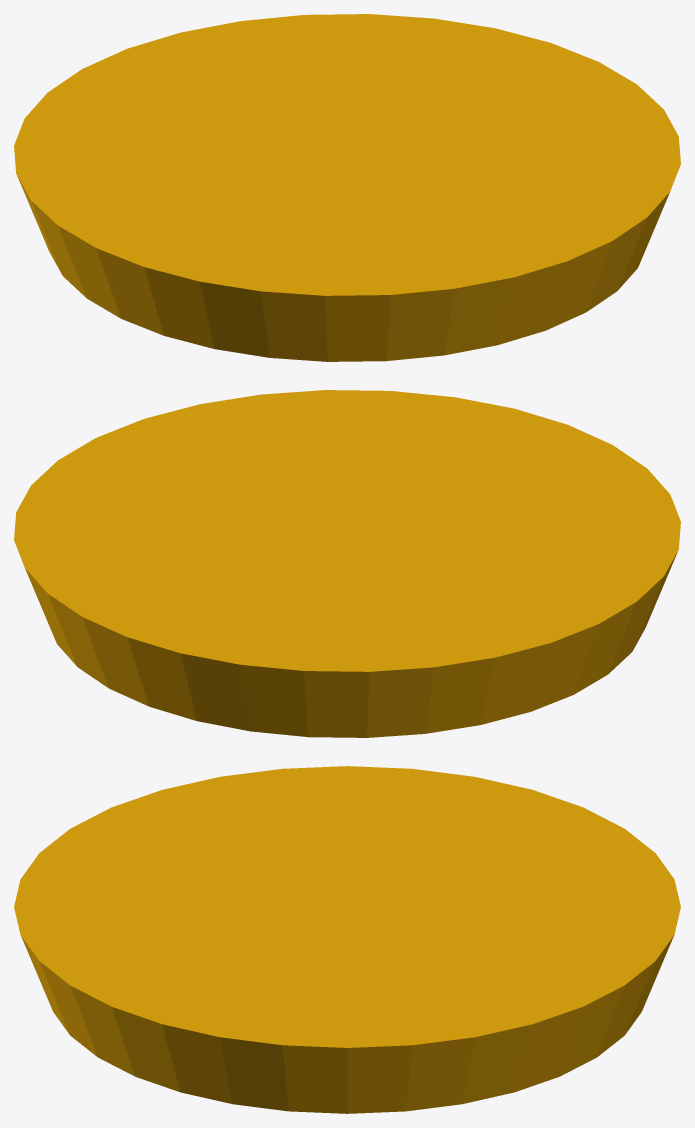
The model's file is burger_bottom.fbx.
The picture shows the model from 3 angles, top to bottom: view 1: azimuth 30°, elevation 25°; view 2: azimuth 150°, elevation 25°; view 3: azimuth 270°, elevation 25°; orthographic projection.
Parts seen in each view (by area): view 1: Burger Bottom; view 2: Burger Bottom; view 3: Burger Bottom.
Boxes of the visible parts, left/top/right/bottom form: Burger Bottom: left=14, top=14, right=680, bottom=361; Burger Bottom: left=14, top=390, right=680, bottom=737; Burger Bottom: left=14, top=766, right=680, bottom=1113.
Size of the model in its own units: 86.22 by 11.41 by 86.22.
